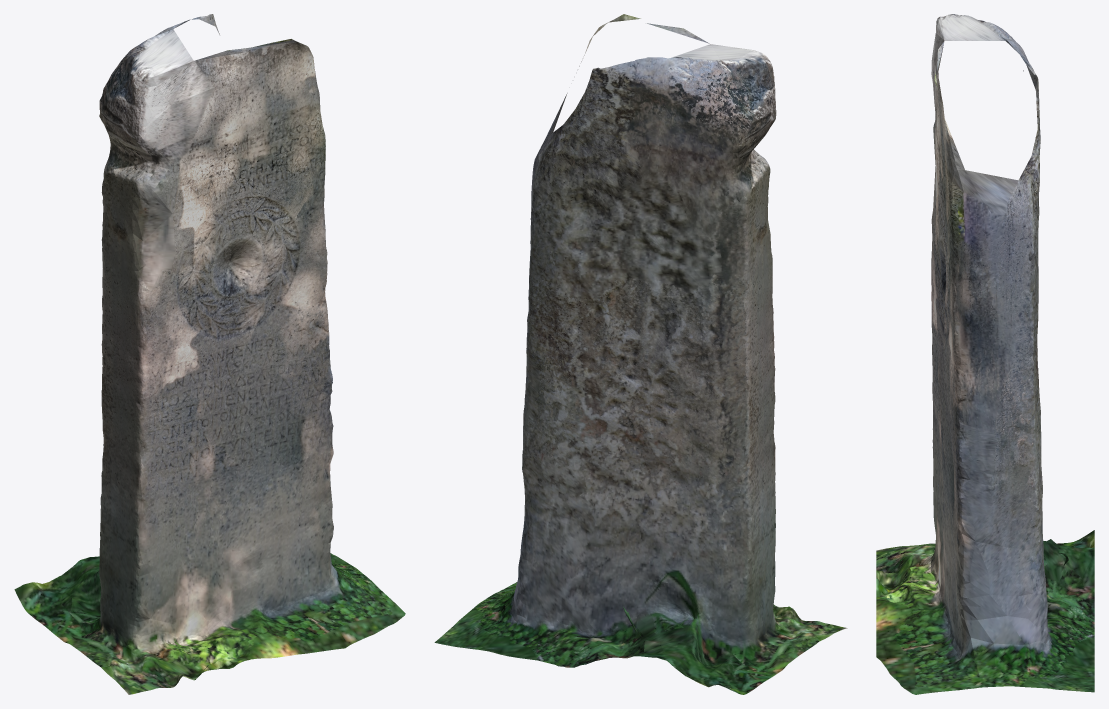
The model's file is scan-01.glb.
3 views of the same model, side by side, from view 1: azimuth 30°, elevation 25°; view 2: azimuth 150°, elevation 25°; view 3: azimuth 270°, elevation 25° (orthographic). The views are drawn at different scales.
Visible parts, largest first — view 1: mesh; view 2: mesh; view 3: mesh.
Part boxes in pixels (<box>): mesh: <box>14,14,405,694</box>; mesh: <box>434,14,847,694</box>; mesh: <box>876,14,1094,694</box>.
Size of the model in its own units: 0.8428 by 1.62 by 0.5614.
1 material, 1 textured.
